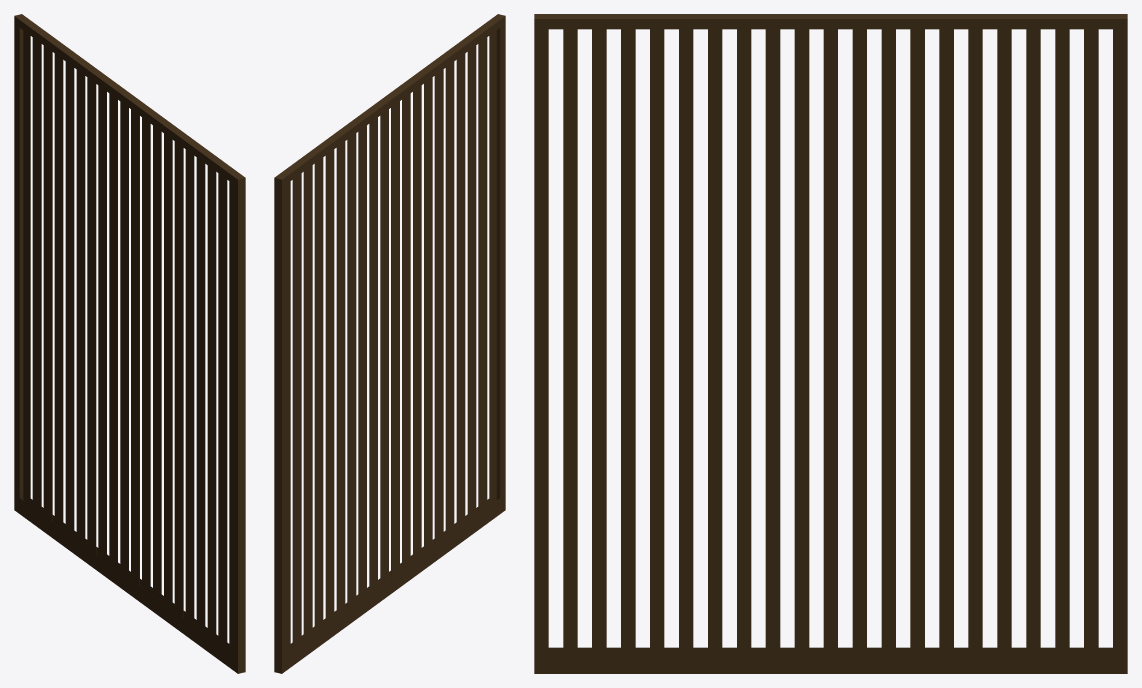
The model's file is perete_despartitor.fbx.
3 views of the same model, side by side, from view 1: azimuth 30°, elevation 25°; view 2: azimuth 150°, elevation 25°; view 3: azimuth 270°, elevation 25° (orthographic). The views are drawn at different scales.
Visible parts, largest first — view 1: Cube; view 2: Cube; view 3: Cube.
Boxes of the visible parts, <box> form: Cube: <box>14,14,245,673</box>; Cube: <box>274,14,505,673</box>; Cube: <box>534,14,1127,673</box>.
Bounding box in the file's own units: 10.29 × 628 × 515.
